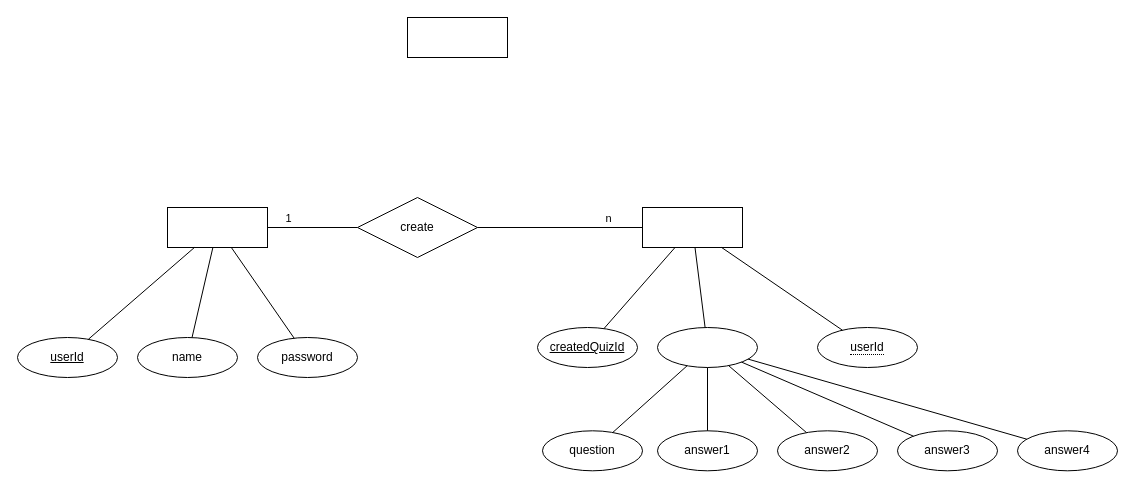
This 1135x489 diagram has some shape labels left out. Here are the shapes that lost their labels. From the top down, the box of each, then its label:
(406, 16, 508, 58): made quiz
(166, 206, 268, 248): User
(642, 206, 742, 248): Created Quiz
(656, 326, 758, 368): quiz
